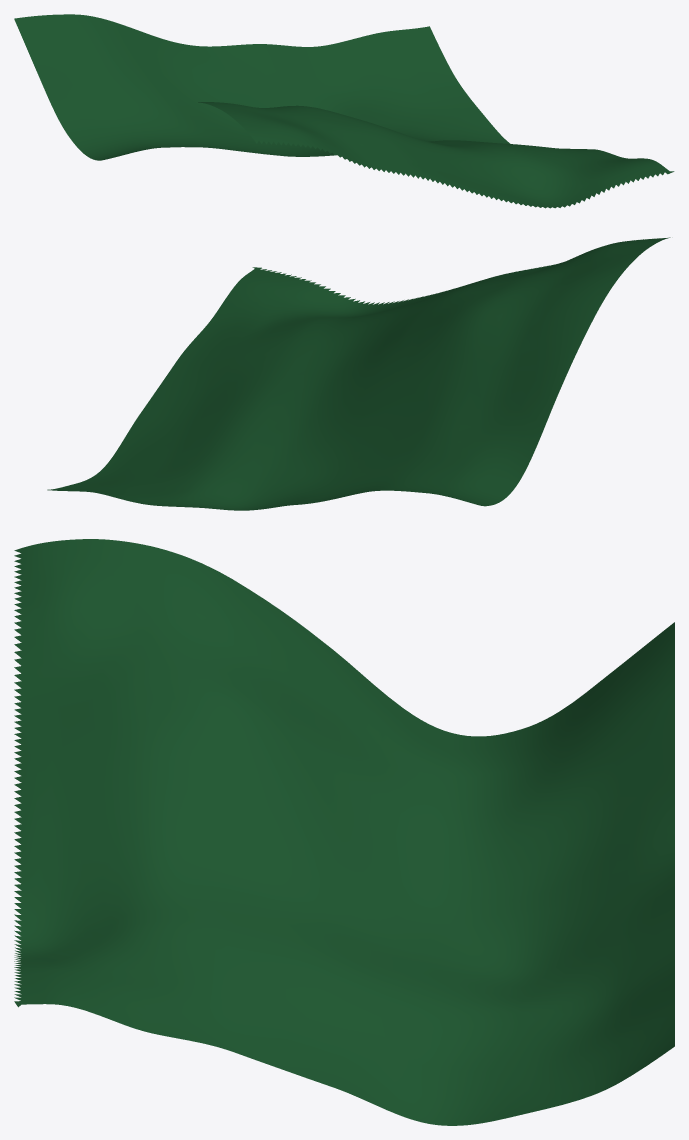
File: payo_land_xm3_y1_lod1.glb
The picture shows the model from 3 angles, top to bottom: view 1: azimuth 30°, elevation 25°; view 2: azimuth 150°, elevation 25°; view 3: azimuth 270°, elevation 25°; orthographic projection. The views are drawn at different scales.
Parts seen in each view (by area): view 1: payo_land_xm3_y1; view 2: payo_land_xm3_y1; view 3: payo_land_xm3_y1.
Part boxes in pixels (x1,y1,x2,y2): payo_land_xm3_y1: (14, 14, 674, 208); payo_land_xm3_y1: (47, 237, 670, 510); payo_land_xm3_y1: (14, 539, 674, 1125).
Size of the model in its own units: 257 by 134 by 258.
